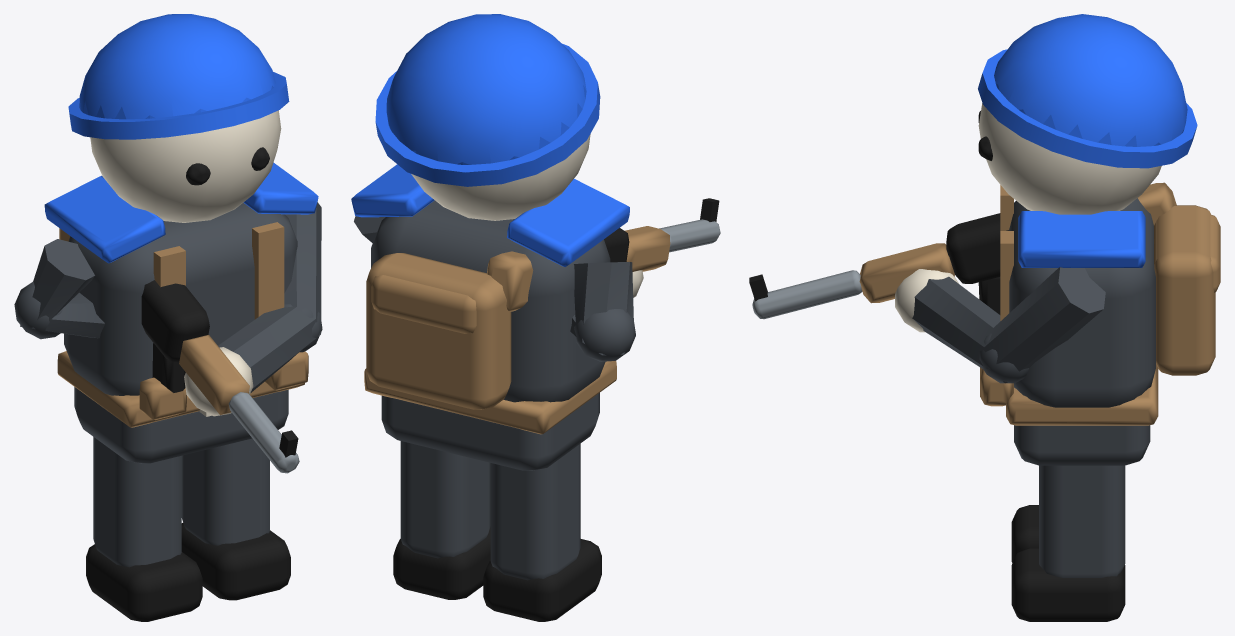
The model's file is rifleman.glb.
3 views of the same model, side by side, from view 1: azimuth 30°, elevation 25°; view 2: azimuth 150°, elevation 25°; view 3: azimuth 270°, elevation 25° (orthographic).
Parts seen in each view (by area): view 1: head__M_Team, turret__M_SmokePlastic, arms__M_SmokePlastic, head__M_CreamPlastic, leg_r__M_SmokePlastic, turret__M_Team, leg_l__M_SmokePlastic, hips__M_SmokePlastic, turret__M_Kraft, leg_r__M_Licorice, leg_l__M_Licorice, barrel__M_Licorice (+5 smaller); view 2: head__M_Team, pack__M_Kraft, turret__M_SmokePlastic, leg_r__M_SmokePlastic, leg_l__M_SmokePlastic, turret__M_Team, hips__M_SmokePlastic, arms__M_SmokePlastic, leg_r__M_Licorice, head__M_CreamPlastic, hips__M_Kraft, leg_l__M_Licorice (+3 smaller); view 3: head__M_Team, turret__M_SmokePlastic, arms__M_SmokePlastic, pack__M_Kraft, leg_l__M_SmokePlastic, head__M_CreamPlastic, turret__M_Team, leg_l__M_Licorice, hips__M_SmokePlastic, barrel__M_Licorice, barrel__M_Kraft, hips__M_Kraft (+4 smaller).
Part boxes in pixels (<box>): head__M_Team: <box>68,14,289,139</box>; turret__M_SmokePlastic: <box>64,202,297,395</box>; arms__M_SmokePlastic: <box>14,202,322,392</box>; head__M_CreamPlastic: <box>90,110,281,222</box>; leg_r__M_SmokePlastic: <box>93,437,181,567</box>; turret__M_Team: <box>44,162,318,263</box>; leg_l__M_SmokePlastic: <box>181,438,269,545</box>; hips__M_SmokePlastic: <box>74,387,288,463</box>; turret__M_Kraft: <box>139,222,308,419</box>; leg_r__M_Licorice: <box>86,544,202,621</box>; leg_l__M_Licorice: <box>181,523,290,600</box>; barrel__M_Licorice: <box>141,280,298,457</box>; head__M_Team: <box>375,14,600,186</box>; pack__M_Kraft: <box>366,253,511,409</box>; turret__M_SmokePlastic: <box>371,200,610,402</box>; leg_r__M_SmokePlastic: <box>490,443,580,580</box>; leg_l__M_SmokePlastic: <box>400,441,490,558</box>; turret__M_Team: <box>351,164,629,266</box>; hips__M_SmokePlastic: <box>381,393,599,470</box>; arms__M_SmokePlastic: <box>354,216,635,361</box>; leg_r__M_Licorice: <box>483,539,601,621</box>; head__M_CreamPlastic: <box>411,134,590,220</box>; hips__M_Kraft: <box>364,361,616,434</box>; leg_l__M_Licorice: <box>393,526,490,599</box>; head__M_Team: <box>978,14,1197,168</box>; turret__M_SmokePlastic: <box>1009,198,1155,407</box>; arms__M_SmokePlastic: <box>912,267,1105,383</box>; pack__M_Kraft: <box>1154,205,1220,375</box>; leg_l__M_SmokePlastic: <box>1039,465,1125,577</box>; head__M_CreamPlastic: <box>978,103,1161,214</box>; turret__M_Team: <box>1018,211,1145,267</box>; leg_l__M_Licorice: <box>1011,548,1125,621</box>; hips__M_SmokePlastic: <box>1014,425,1150,465</box>; barrel__M_Licorice: <box>749,213,1008,314</box>; barrel__M_Kraft: <box>859,182,1176,303</box>; hips__M_Kraft: <box>1006,364,1158,425</box>.
Bounding box in the file's own units: 0.291 × 0.5477 × 0.4149.
